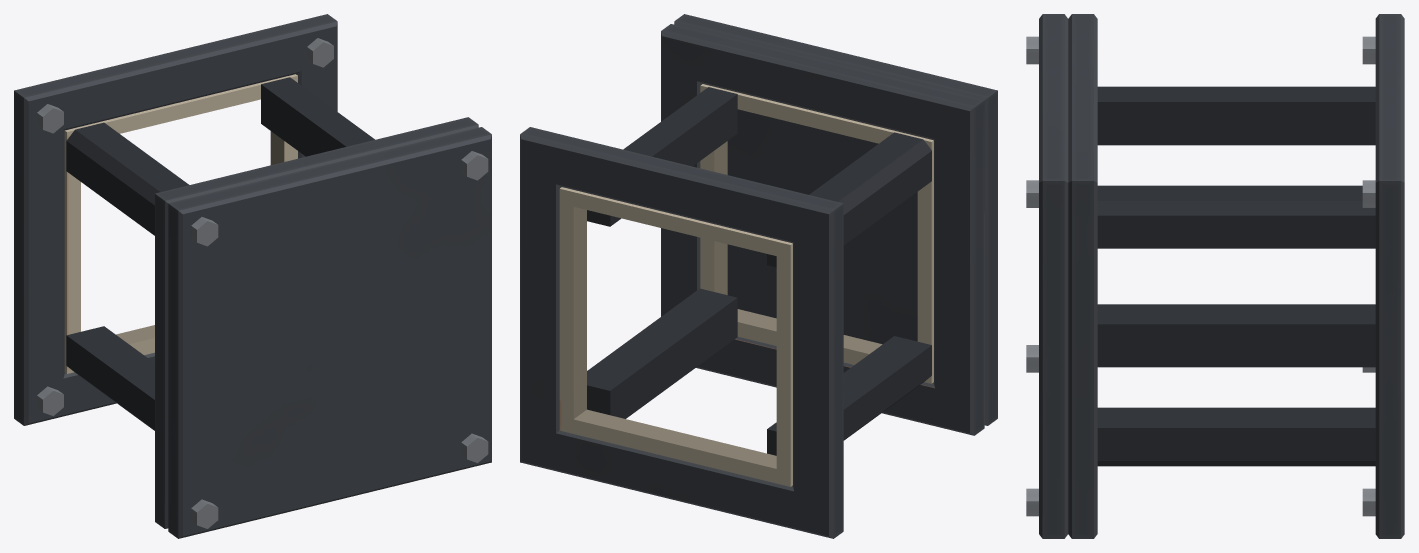
File: end_port_north.obj
3 renders of one model, left to right at view 1: azimuth 30°, elevation 25°; view 2: azimuth 150°, elevation 25°; view 3: azimuth 270°, elevation 25°, orthographic. The views are drawn at different scales.
Parts seen in each view (by area): view 1: end_port_blind, end_port_port, end_port_rails, end_port_flange, end_port_port_lining, end_port_flange_nuts, end_port_port_nuts; view 2: end_port_port, end_port_flange, end_port_blind, end_port_rails, end_port_port_lining, end_port_flange_lining; view 3: end_port_rails, end_port_flange, end_port_port, end_port_blind, end_port_flange_nuts, end_port_port_nuts.
Boxes of the visible parts, x1,y1,x2,y2 form: end_port_blind: [168, 127, 491, 538]; end_port_port: [14, 14, 337, 425]; end_port_rails: [66, 77, 374, 430]; end_port_flange: [155, 117, 478, 528]; end_port_port_lining: [64, 74, 297, 373]; end_port_flange_nuts: [191, 151, 488, 528]; end_port_port_nuts: [37, 38, 333, 416]; end_port_port: [520, 127, 843, 538]; end_port_flange: [661, 24, 984, 435]; end_port_blind: [674, 14, 997, 425]; end_port_rails: [587, 87, 931, 455]; end_port_port_lining: [559, 187, 792, 486]; end_port_flange_lining: [700, 84, 933, 383]; end_port_rails: [1097, 86, 1375, 466]; end_port_flange: [1068, 14, 1097, 538]; end_port_port: [1375, 14, 1404, 538]; end_port_blind: [1039, 14, 1068, 538]; end_port_flange_nuts: [1026, 36, 1038, 516]; end_port_port_nuts: [1362, 36, 1375, 516].
Bounding box in the file's own units: 0.675 × 0.675 × 0.6469.
